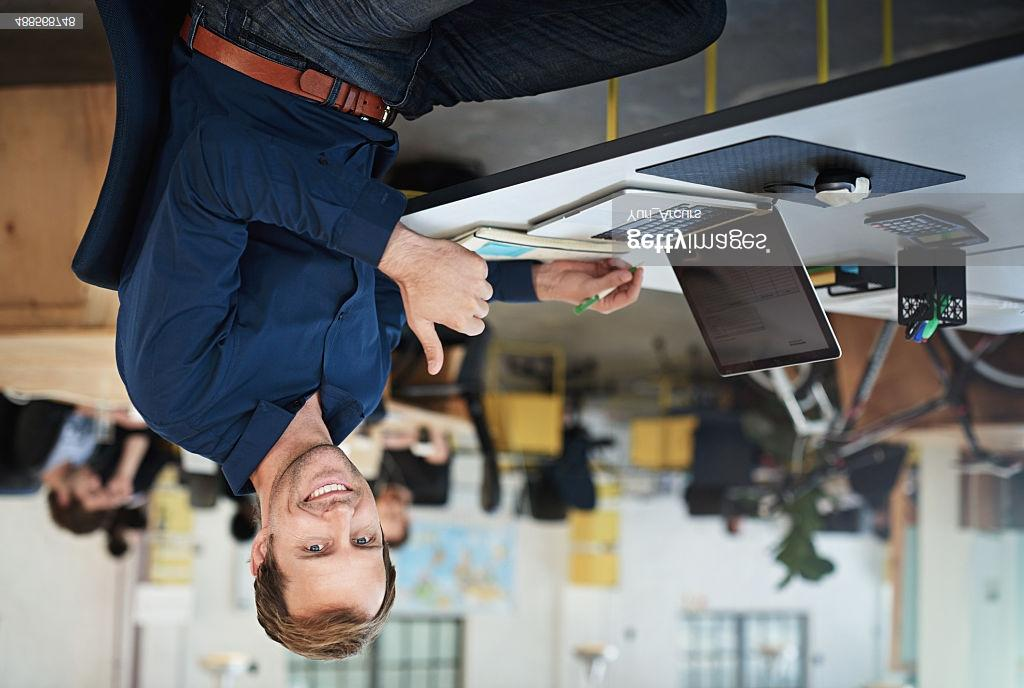thumbsdown: (422, 237, 495, 378)
